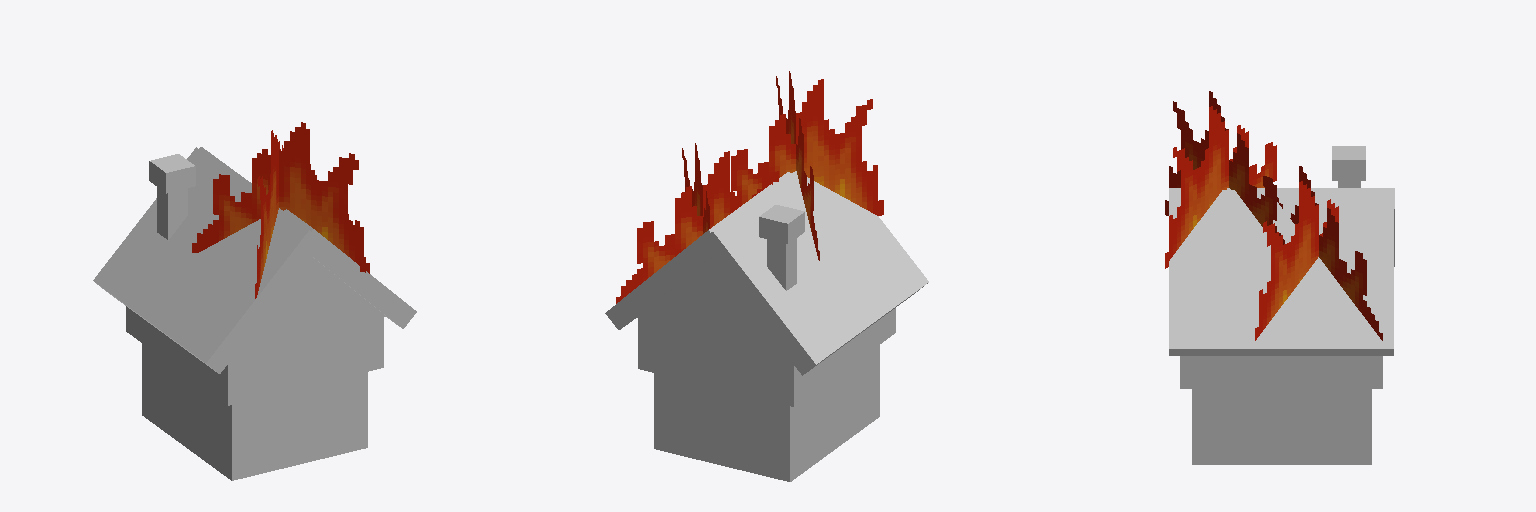
3 views of the same model, side by side, from view 1: azimuth 30°, elevation 25°; view 2: azimuth 150°, elevation 25°; view 3: azimuth 270°, elevation 25° (orthographic).
Parts seen in each view (by area): view 1: cuboid, plane, pyramid; view 2: cuboid, plane, pyramid; view 3: cuboid, plane.
Part boxes in pixels (x1,y1,x2,y2): cuboid: (93,147,416,480); plane: (192,122,369,298); pyramid: (237,256,386,352); cuboid: (605,171,928,481); plane: (616,71,883,303); pyramid: (636,258,785,354); cuboid: (1169,146,1394,464); plane: (1165,91,1382,340).
Bounding box in the file's own units: 1.35 × 2.16 × 1.28.
3 materials, 1 textured.